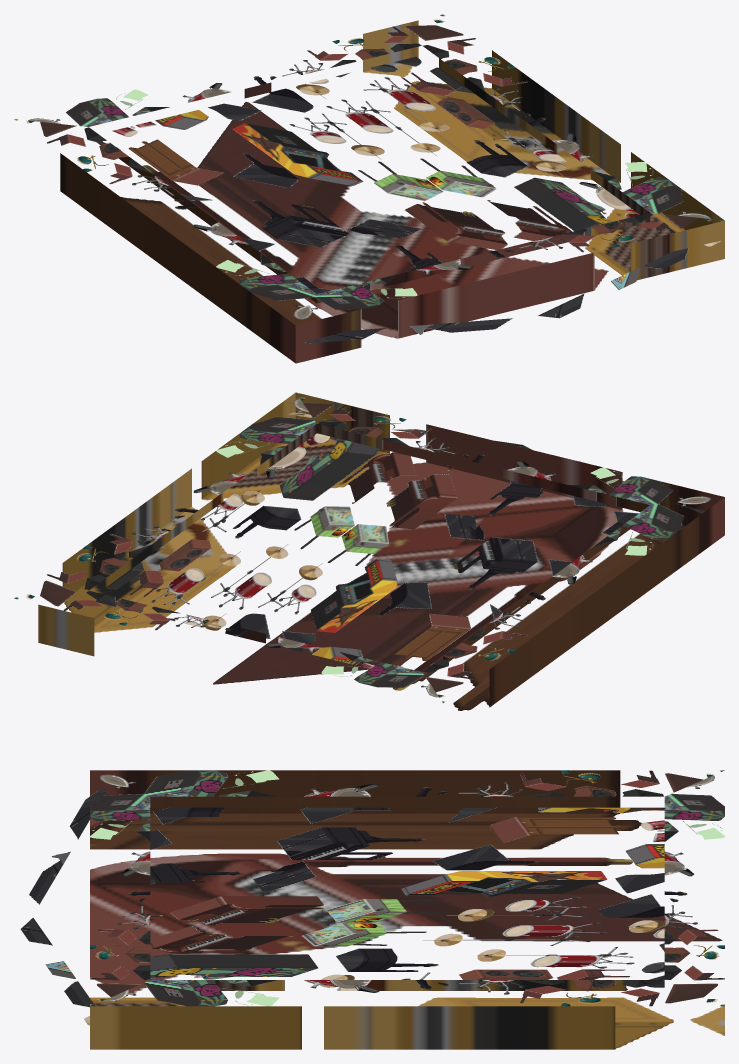
The picture shows the model from 3 angles, top to bottom: view 1: azimuth 30°, elevation 25°; view 2: azimuth 150°, elevation 25°; view 3: azimuth 270°, elevation 25°; orthographic projection. The views are drawn at different scales.
Size of the model in its own units: 0.4697 by 0.04 by 0.5981.
